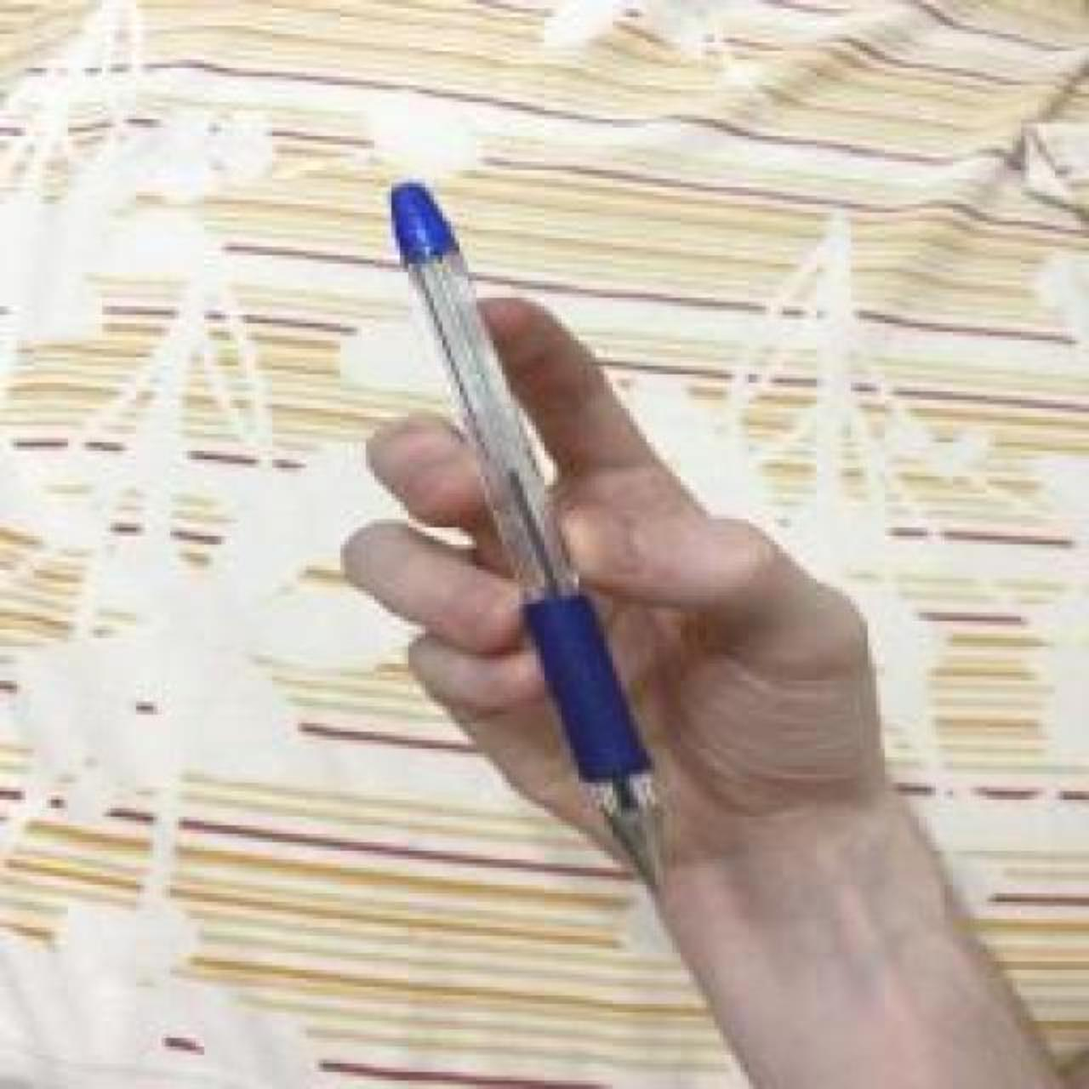pen: (383, 179, 672, 902)
